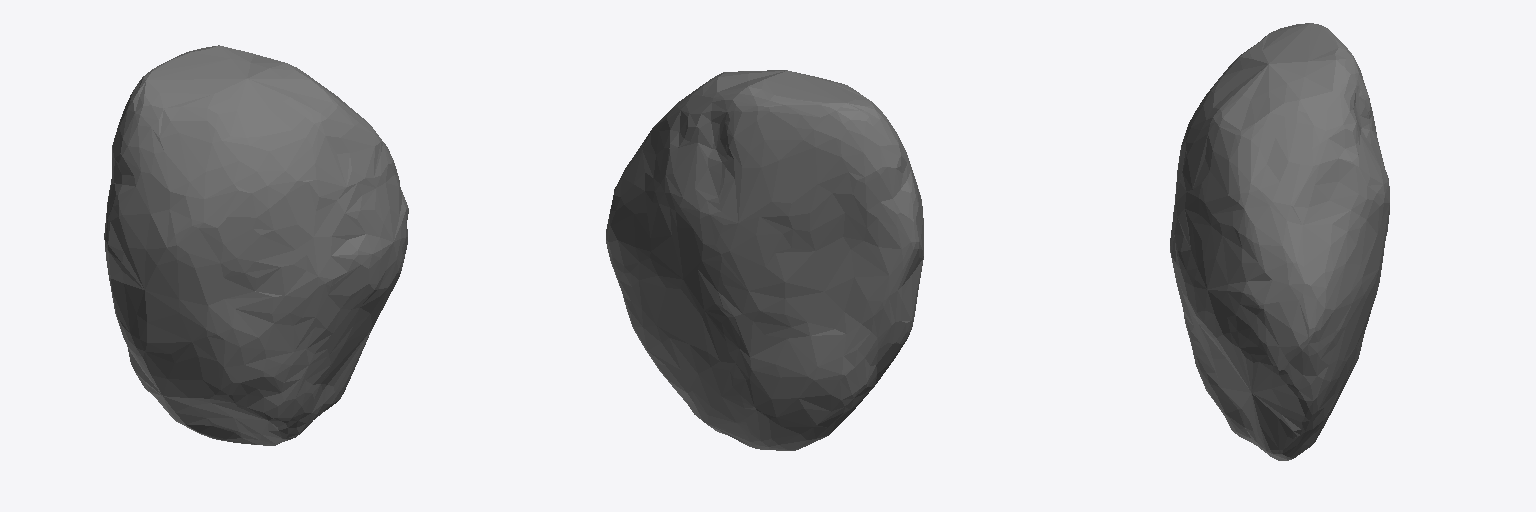
File: body.obj
3 renders of one model, left to right at view 1: azimuth 30°, elevation 25°; view 2: azimuth 150°, elevation 25°; view 3: azimuth 270°, elevation 25°, orthographic.
Visible parts, largest first — view 1: body; view 2: body; view 3: body.
Part boxes in pixels (left/top/right/bottom): body: left=104, top=45, right=408, bottom=445; body: left=606, top=70, right=923, bottom=450; body: left=1170, top=23, right=1389, bottom=460.
Bounding box in the file's own units: 11.15 × 13.68 × 7.1.